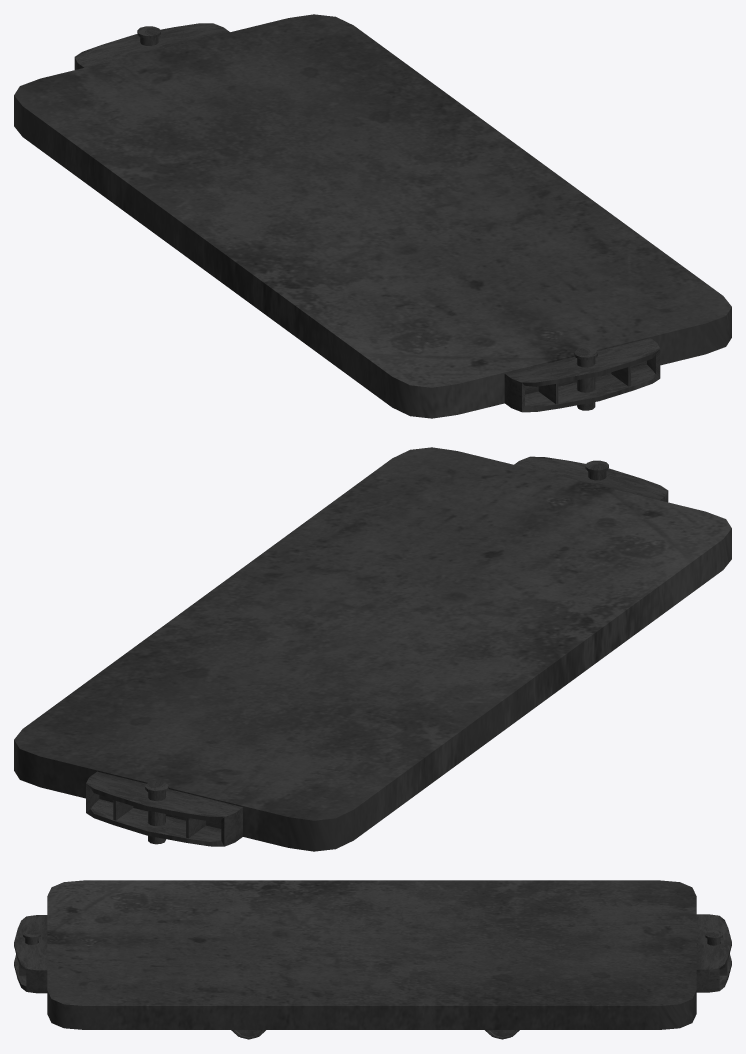
Rendered from HJ_MKTC_002.FBX.
The picture shows the model from 3 angles, top to bottom: view 1: azimuth 30°, elevation 25°; view 2: azimuth 150°, elevation 25°; view 3: azimuth 270°, elevation 25°; orthographic projection. The views are drawn at different scales.
Visible parts, largest first — view 1: ZC_JW_08; view 2: ZC_JW_08; view 3: ZC_JW_08.
Part boxes in pixels (x1=…): ZC_JW_08: x1=14, y1=14, x2=731, y2=418; ZC_JW_08: x1=14, y1=447, x2=731, y2=851; ZC_JW_08: x1=14, y1=880, x2=731, y2=1039.
Size of the model in its own units: 1.4 by 0.3956 by 3.38.
Materials: 1 (1 with a texture image).
